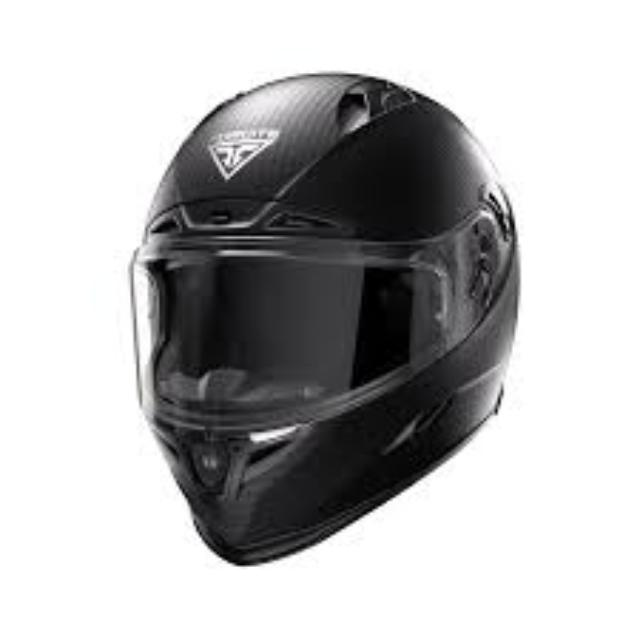motorcycle-helmets: (116, 57, 522, 569)
